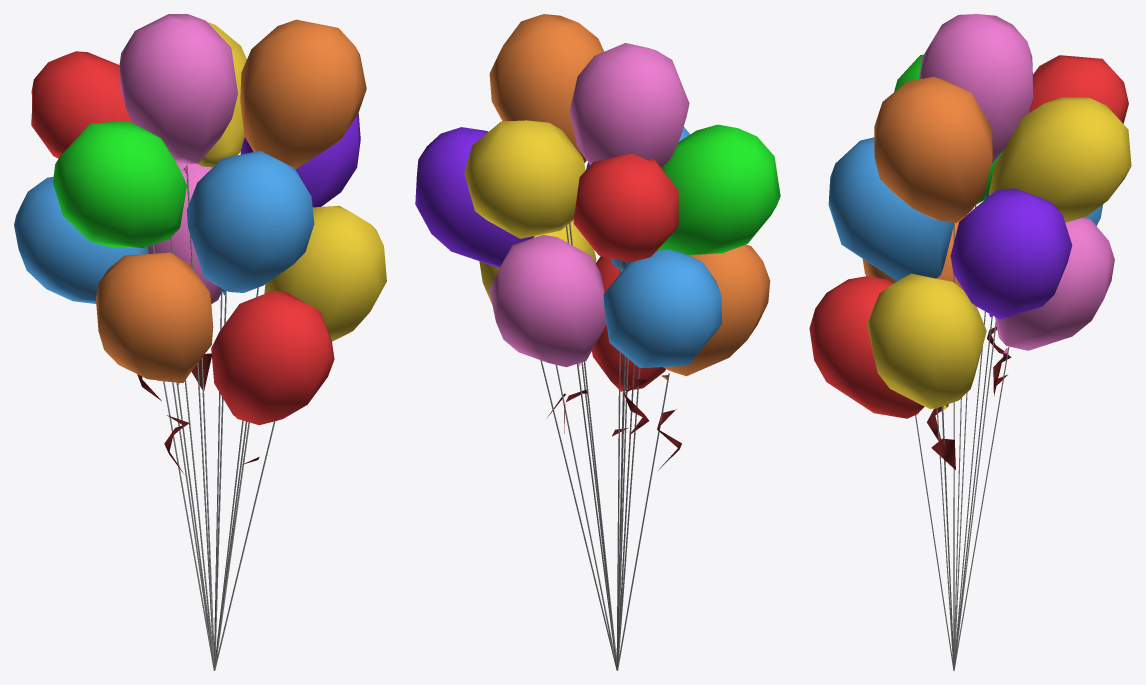
Rendered from balloons.glb.
The picture shows the model from 3 angles, left to right: view 1: azimuth 30°, elevation 25°; view 2: azimuth 150°, elevation 25°; view 3: azimuth 270°, elevation 25°; orthographic projection.
Parts seen in each view (by area): view 1: Sphere.001_Balloon5_0, Sphere_Balloon3_0, Sphere.005_balloon1_0, Sphere.002_Balloon6_0, Sphere.003_Balloon6.001_0, Sphere.006_balloon2_0, Cube_cord_0, Sphere.007_Balloon4_0, Plane.004_lace_0; view 2: Sphere.002_Balloon6_0, Sphere.001_Balloon5_0, Sphere.006_balloon2_0, Sphere.003_Balloon6.001_0, Sphere.005_balloon1_0, Sphere_Balloon3_0, Sphere.007_Balloon4_0, Cube_cord_0, Plane.004_lace_0; view 3: Sphere.006_balloon2_0, Sphere.002_Balloon6_0, Sphere.001_Balloon5_0, Sphere.005_balloon1_0, Sphere.007_Balloon4_0, Sphere_Balloon3_0, Cube_cord_0, Plane.004_lace_0, Sphere.003_Balloon6.001_0.
Boxes of the visible parts, left/top/right/bottom form: Sphere.001_Balloon5_0: left=96, top=19, right=366, bottom=384; Sphere_Balloon3_0: left=14, top=151, right=314, bottom=303; Sphere.005_balloon1_0: left=31, top=51, right=334, bottom=425; Sphere.002_Balloon6_0: left=119, top=14, right=237, bottom=303; Sphere.003_Balloon6.001_0: left=53, top=121, right=186, bottom=247; Sphere.006_balloon2_0: left=196, top=22, right=386, bottom=341; Cube_cord_0: left=152, top=165, right=275, bottom=670; Sphere.007_Balloon4_0: left=240, top=113, right=360, bottom=207; Plane.004_lace_0: left=137, top=353, right=259, bottom=473; Sphere.002_Balloon6_0: left=489, top=43, right=689, bottom=367; Sphere.001_Balloon5_0: left=489, top=14, right=770, bottom=379; Sphere.006_balloon2_0: left=464, top=120, right=596, bottom=304; Sphere.003_Balloon6.001_0: left=657, top=124, right=780, bottom=254; Sphere.005_balloon1_0: left=573, top=153, right=678, bottom=391; Sphere_Balloon3_0: left=586, top=127, right=722, bottom=367; Sphere.007_Balloon4_0: left=415, top=127, right=534, bottom=267; Cube_cord_0: left=540, top=222, right=669, bottom=670; Plane.004_lace_0: left=547, top=378, right=681, bottom=470; Sphere.006_balloon2_0: left=867, top=97, right=1131, bottom=409; Sphere.002_Balloon6_0: left=919, top=14, right=1114, bottom=353; Sphere.001_Balloon5_0: left=862, top=77, right=992, bottom=289; Sphere.005_balloon1_0: left=809, top=55, right=1128, bottom=418; Sphere.007_Balloon4_0: left=950, top=188, right=1072, bottom=319; Sphere_Balloon3_0: left=828, top=137, right=1102, bottom=281; Cube_cord_0: left=915, top=205, right=1009, bottom=670; Plane.004_lace_0: left=927, top=326, right=1011, bottom=469; Sphere.003_Balloon6.001_0: left=894, top=54, right=1002, bottom=214.
Bounding box in the file's own units: 1.04 × 2 × 0.9096.
